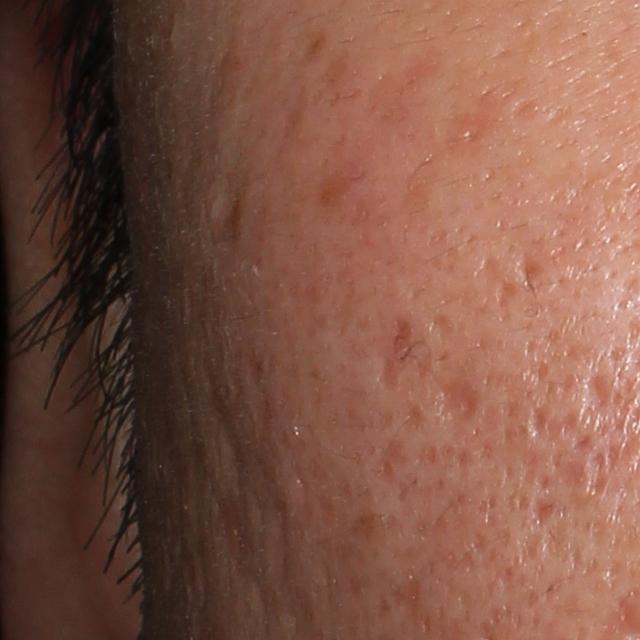atrophic_scar: (427, 376, 488, 440), (373, 314, 415, 392), (472, 255, 521, 311), (436, 105, 490, 154), (203, 184, 243, 240), (364, 441, 406, 485), (525, 406, 567, 441), (515, 250, 544, 290), (512, 531, 544, 566), (591, 453, 615, 498), (586, 369, 609, 409), (560, 456, 587, 489), (427, 314, 455, 344), (401, 396, 424, 432), (530, 497, 555, 523)
melasma: (296, 26, 333, 72)
